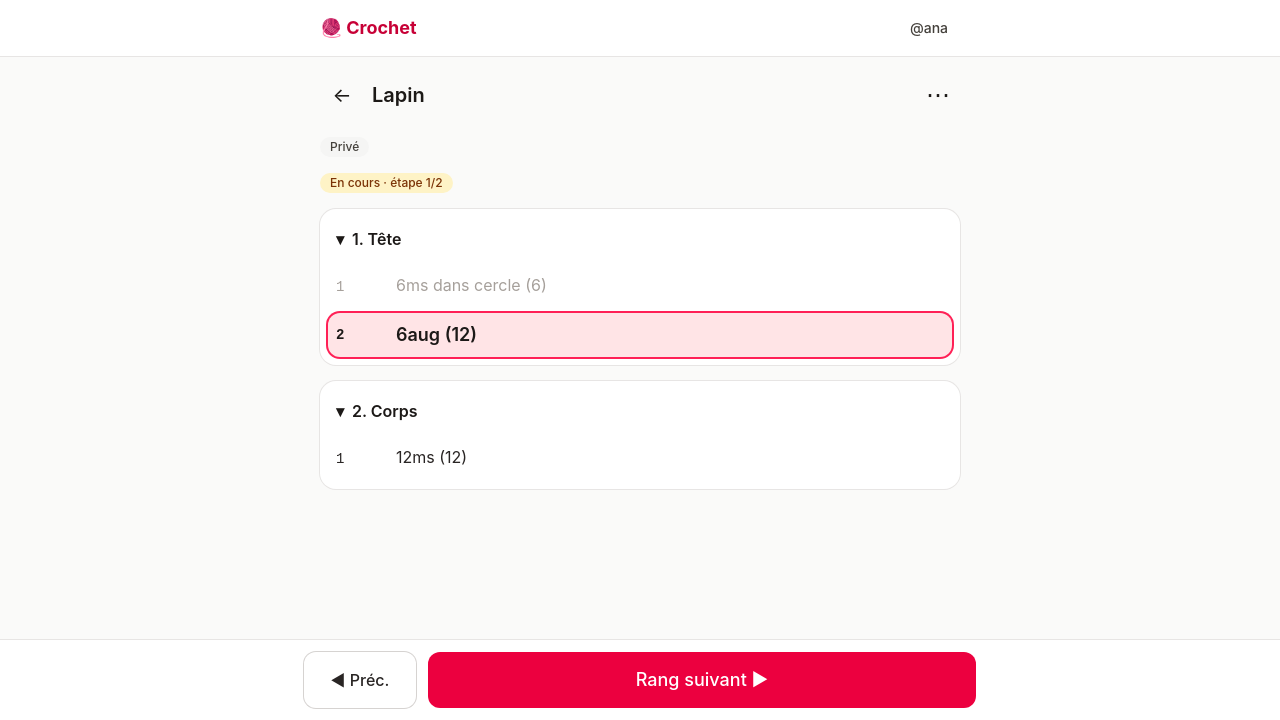
Test: menu du détail › traite « is not started » comme un abandon réussi
Click the button named "Actions du pattern".
click(938, 95)  # box [916, 73, 960, 117]
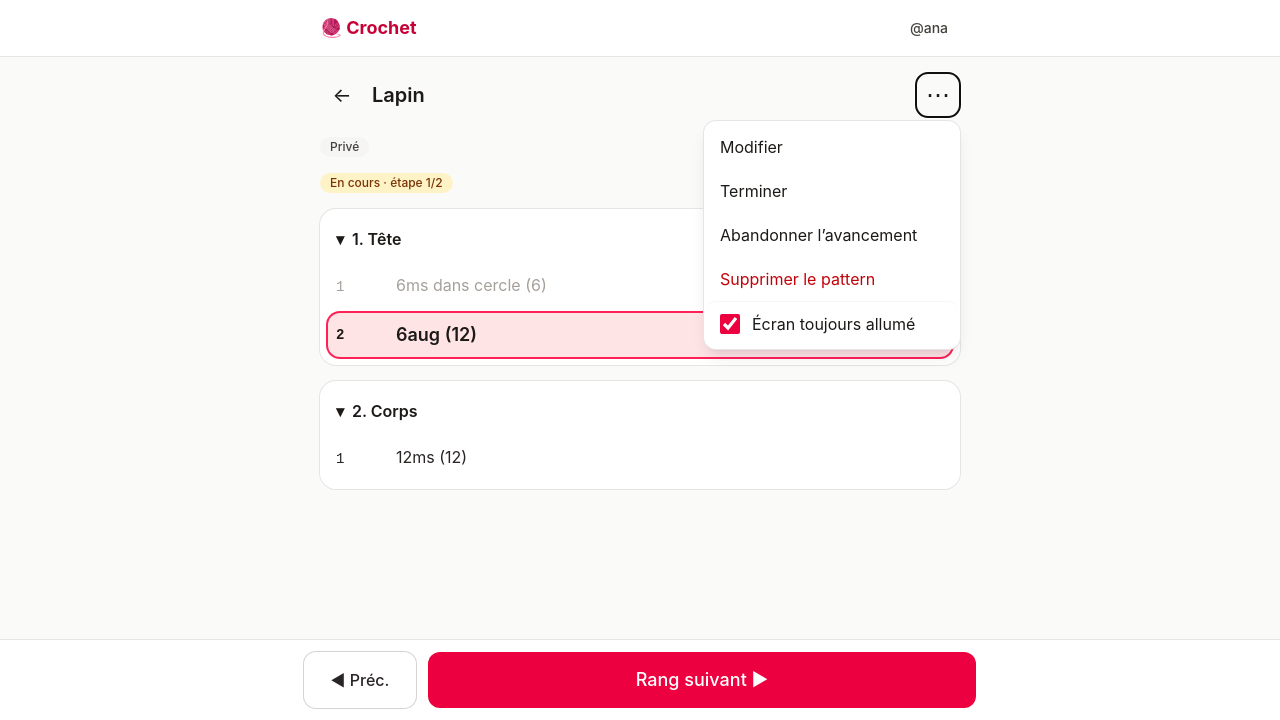
Click the menu item "Abandonner l’avancement".
click(832, 235)  # box [708, 213, 956, 257]
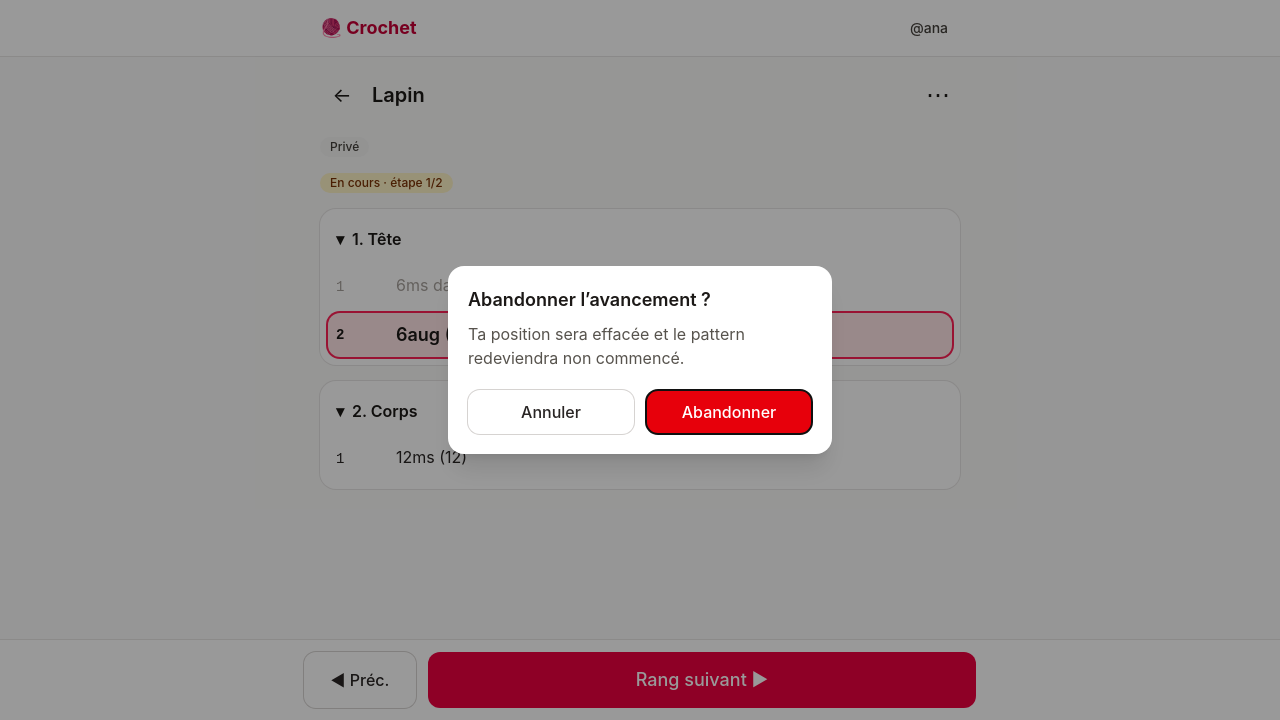
Click the button "Abandonner".
click(729, 412)  # box [646, 390, 812, 434]
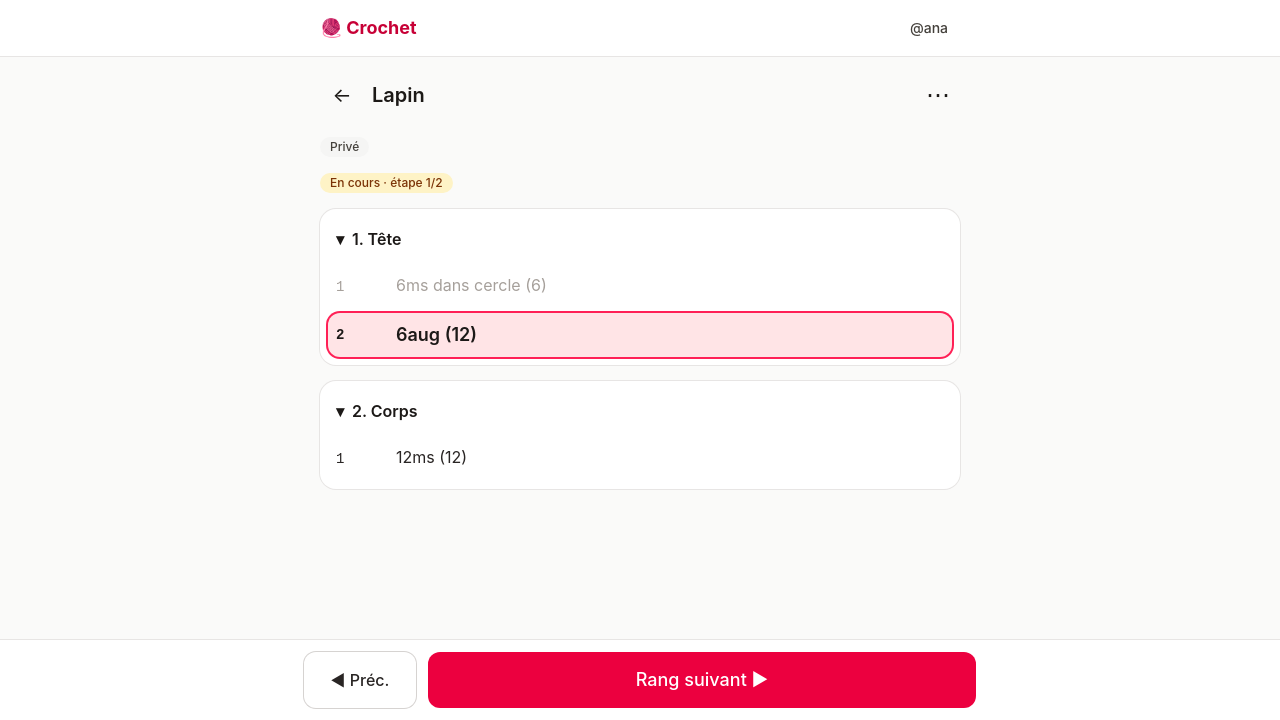
Expected: the dialog is gone
